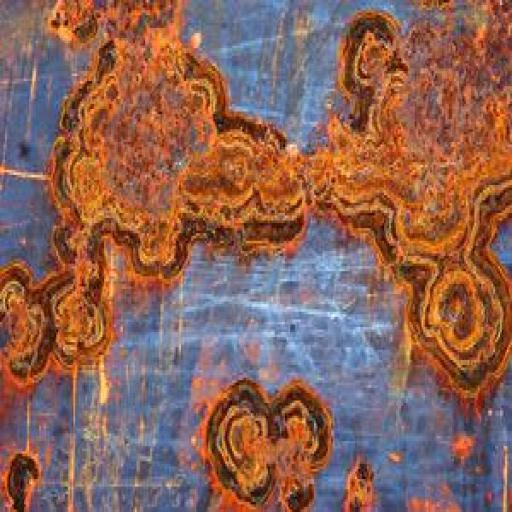corrosion: (201, 380, 331, 509), (0, 447, 45, 512), (341, 459, 372, 509)
